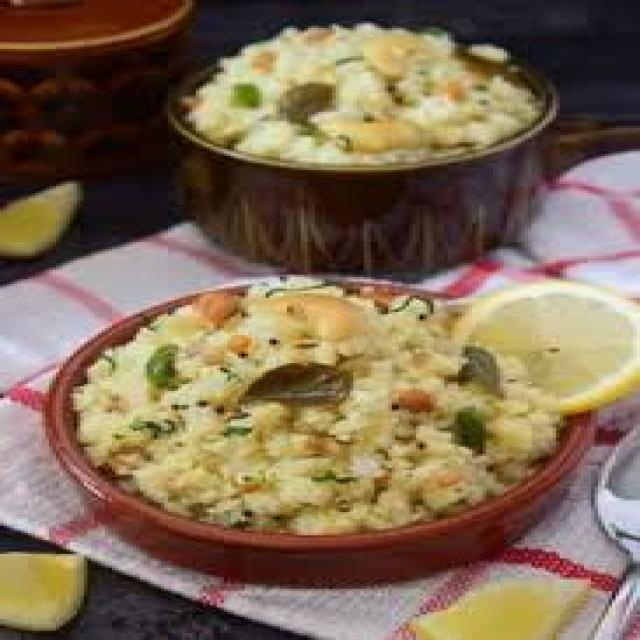POHA: (70, 284, 553, 526), (178, 23, 535, 161)
